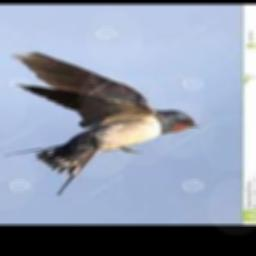Swallow: (3, 52, 200, 193)
